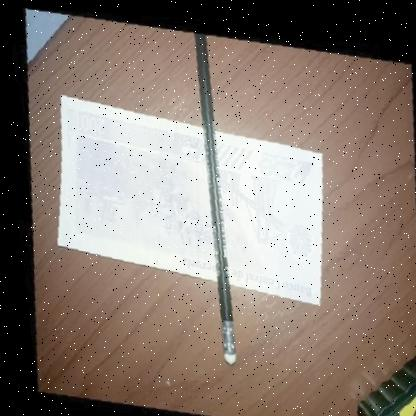two_hundred-back-vef: (37, 83, 337, 310)
